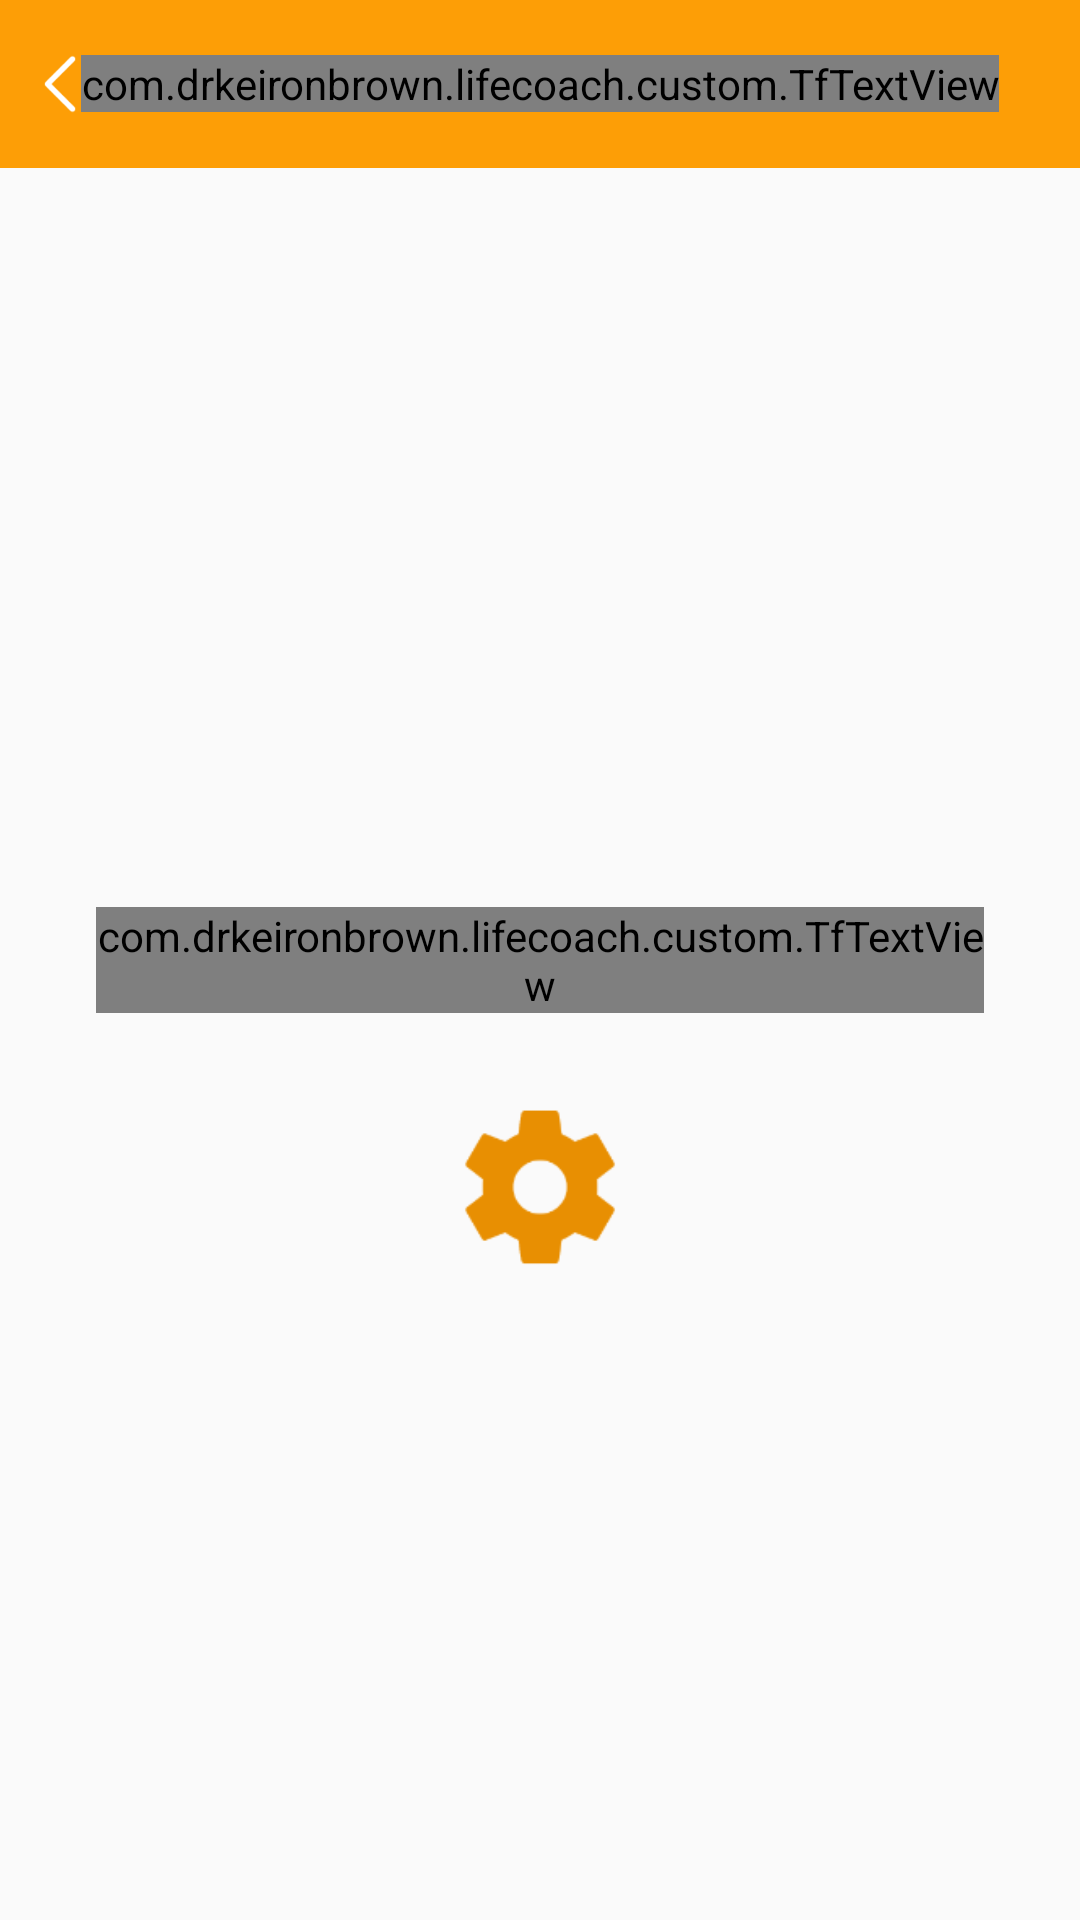

Icon click points for this 1080x1920 phone screenshot, format (x=x, y=y):
settings: (x=540, y=1187)
